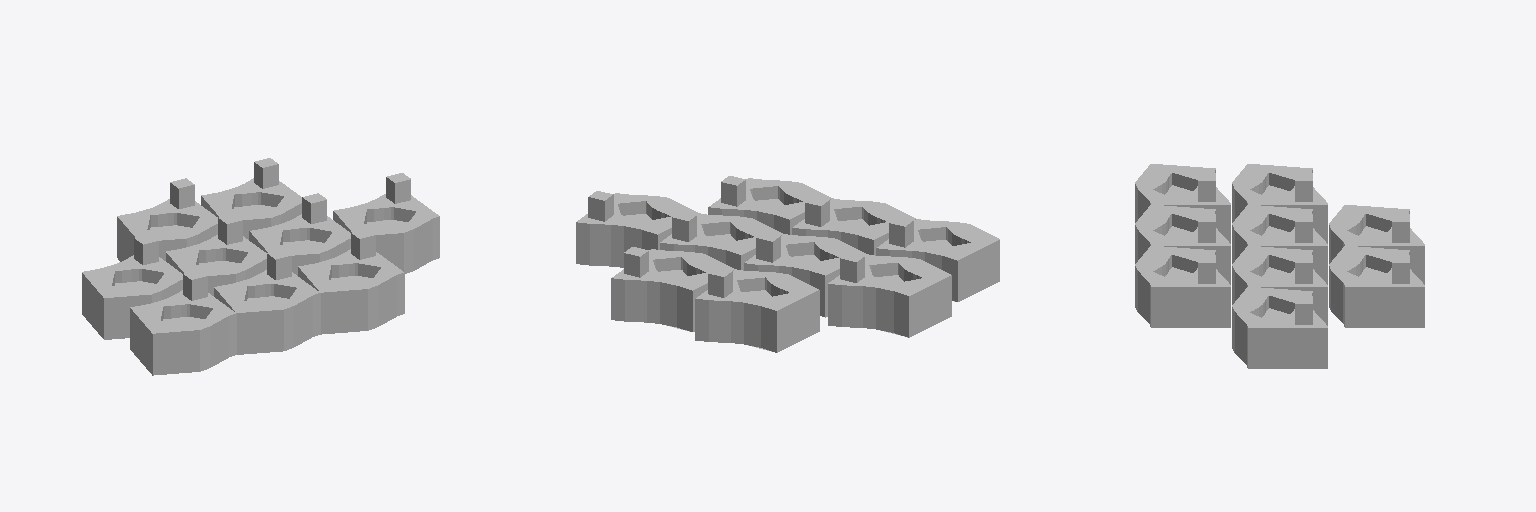
Rendered from combined_city_model.obj.
The picture shows the model from 3 angles: view 1: azimuth 30°, elevation 25°; view 2: azimuth 150°, elevation 25°; view 3: azimuth 270°, elevation 25°; orthographic projection.
Bounding box in the file's own units: 840 × 150 × 629.